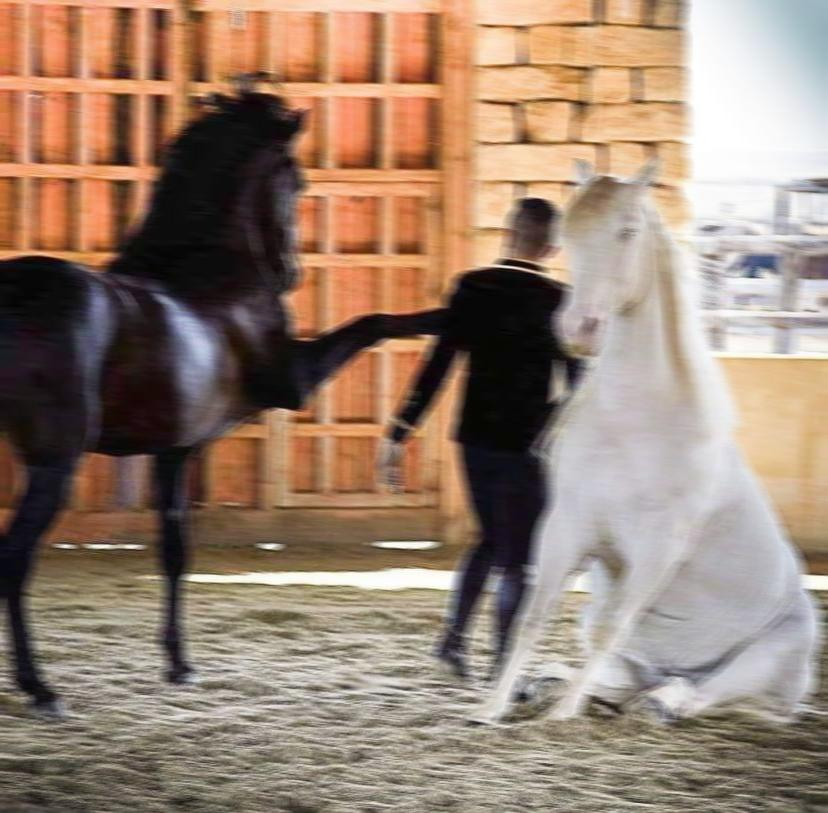horse: (0, 68, 447, 724), (460, 153, 824, 732)
